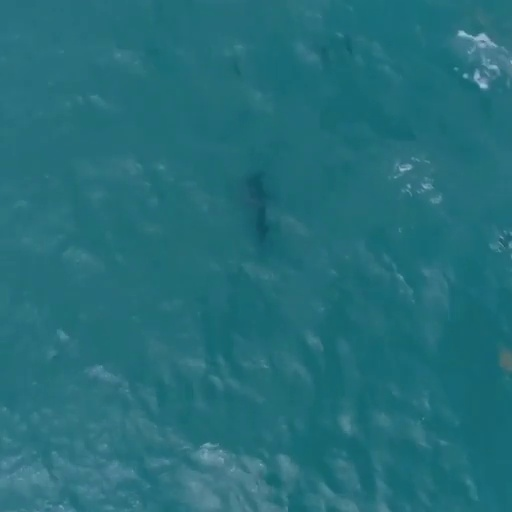shark: (235, 168, 277, 246)
